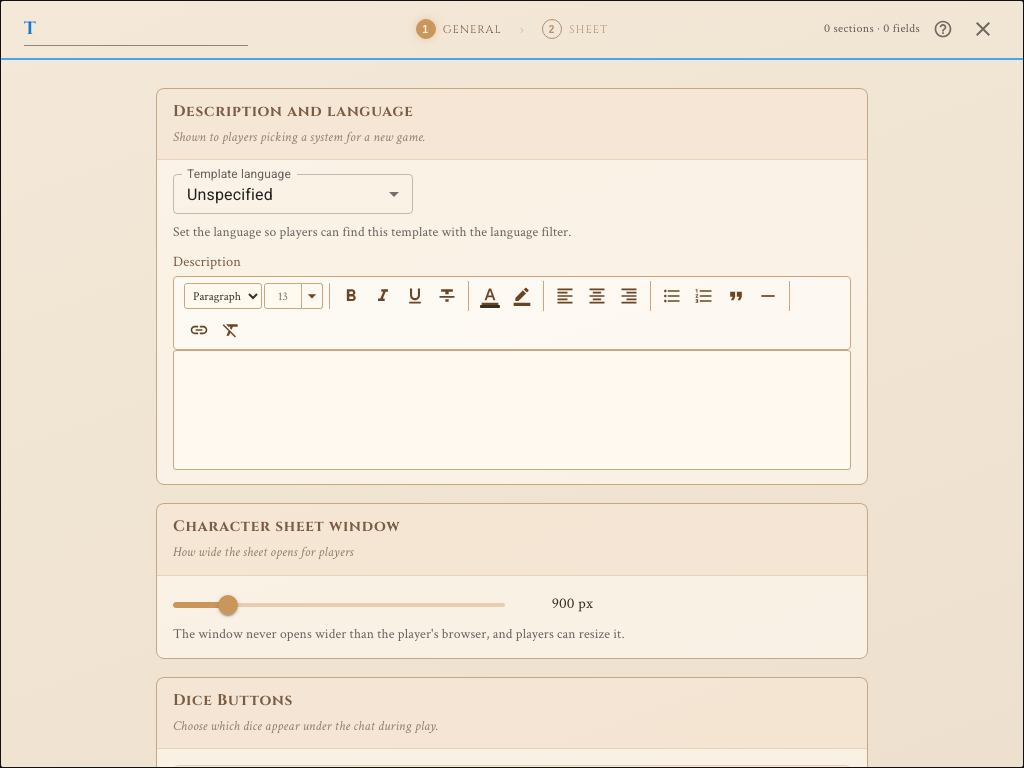
Test: without a char_name field the sheet area warns and the card stays usable
The width and height of the screenshot is (1024, 768).
Click the button "2 Sheet".
click(575, 29)  # box [528,14,622,44]
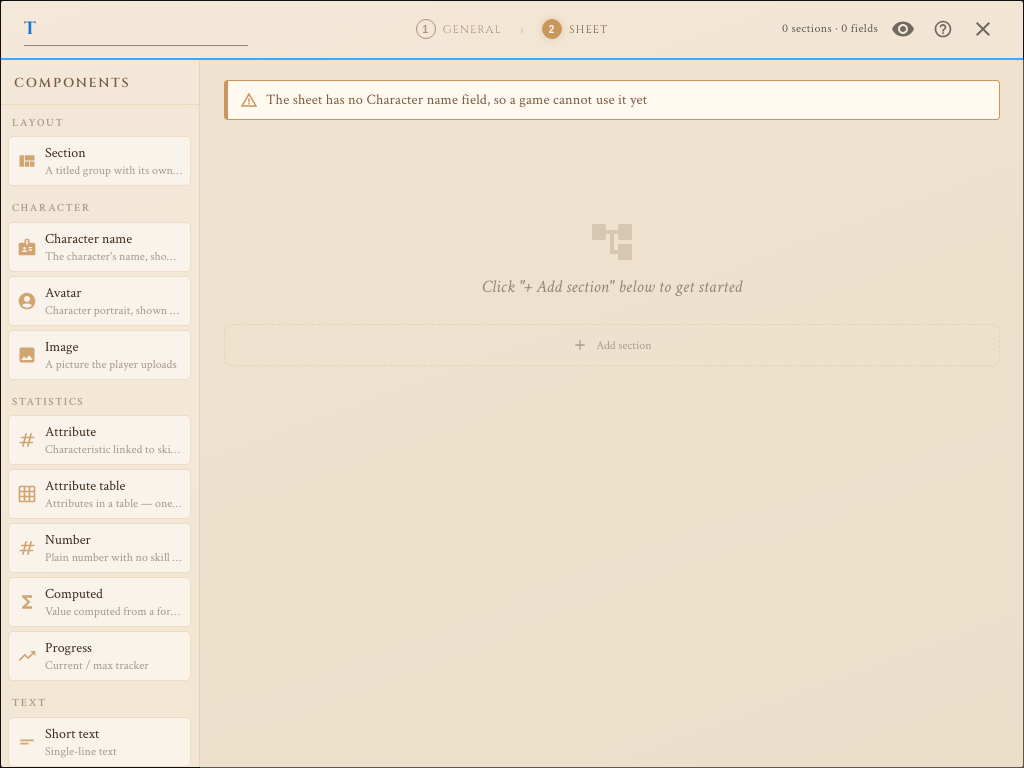
Result: the text "The sheet has no Character name field, so a game cannot use it yet" is shown at [266,90,647,109]
